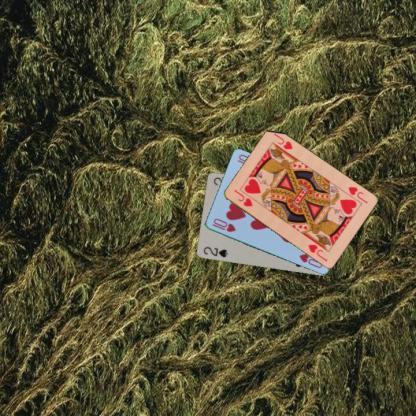10h: (209, 216, 236, 234)
2s: (200, 244, 229, 258)
Jh: (231, 186, 254, 208), (346, 184, 368, 206)
